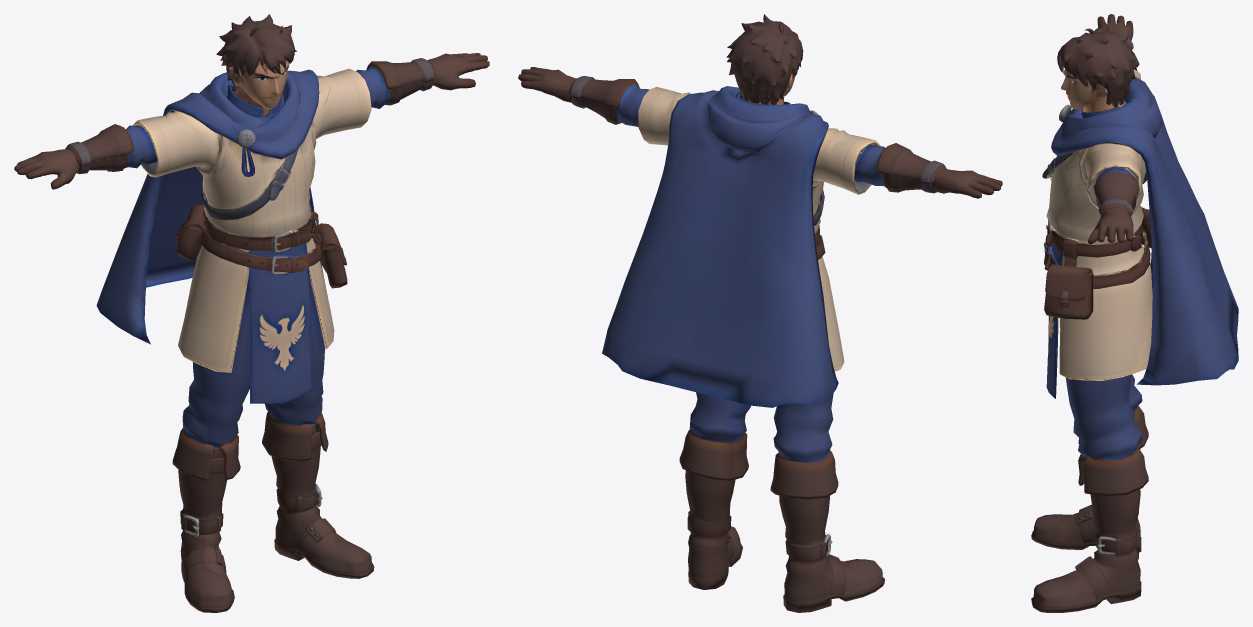
The model's file is spearman_body_v4_tex.fbx.
3 views of the same model, side by side, from view 1: azimuth 30°, elevation 25°; view 2: azimuth 150°, elevation 25°; view 3: azimuth 270°, elevation 25° (orthographic). The views are drawn at different scales.
Parts seen in each view (by area): view 1: tripo_30daf7c2_655a_4cff_b642_7e96dc1665e0; view 2: tripo_30daf7c2_655a_4cff_b642_7e96dc1665e0; view 3: tripo_30daf7c2_655a_4cff_b642_7e96dc1665e0.
Boxes of the visible parts, left/top/right/bottom form: tripo_30daf7c2_655a_4cff_b642_7e96dc1665e0: left=14, top=14, right=489, bottom=612; tripo_30daf7c2_655a_4cff_b642_7e96dc1665e0: left=518, top=14, right=1002, bottom=612; tripo_30daf7c2_655a_4cff_b642_7e96dc1665e0: left=1031, top=14, right=1238, bottom=612.
Size of the model in its own units: 0.896 by 0.9995 by 0.3481.
1 material, 1 textured.
